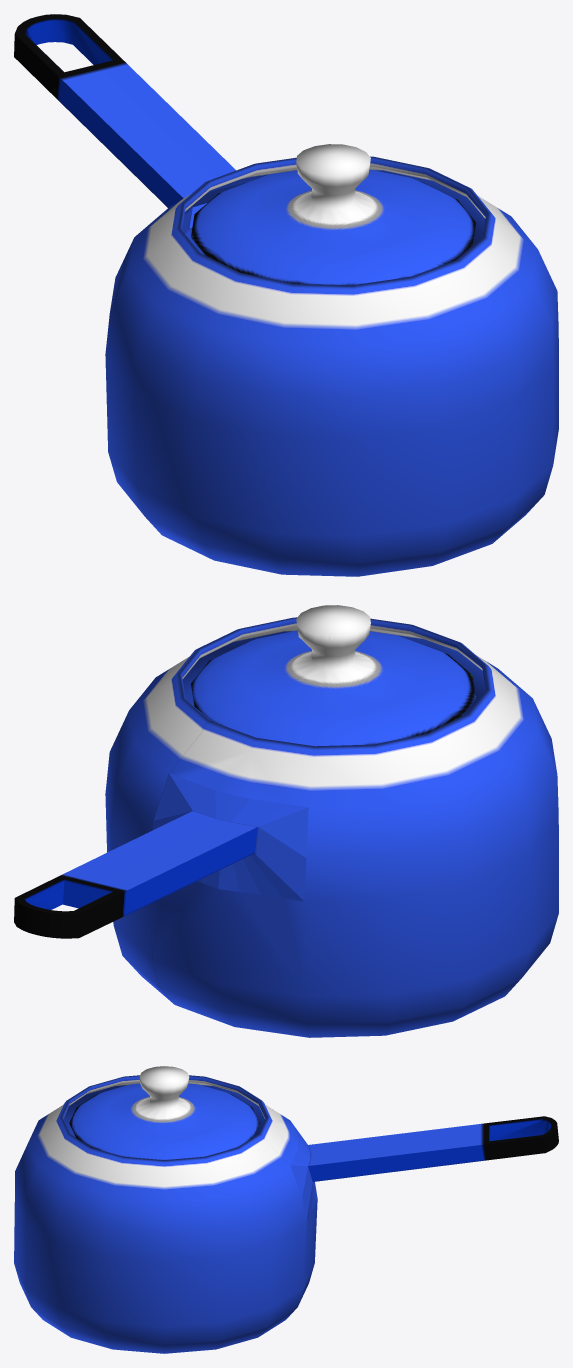
Rendered from Pot.FBX.
The picture shows the model from 3 angles, top to bottom: view 1: azimuth 30°, elevation 25°; view 2: azimuth 150°, elevation 25°; view 3: azimuth 270°, elevation 25°; orthographic projection. The views are drawn at different scales.
Parts seen in each view (by area): view 1: Teapot001; view 2: Teapot001; view 3: Teapot001.
Part boxes in pixels (<box>): Teapot001: <box>14,14,558,576</box>; Teapot001: <box>14,605,558,1037</box>; Teapot001: <box>14,1066,558,1353</box>.
Bounding box in the file's own units: 2718 × 4895 × 2414.
Materials: 1 (1 with a texture image).
